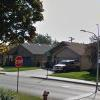Tree: (2, 2, 40, 50)
